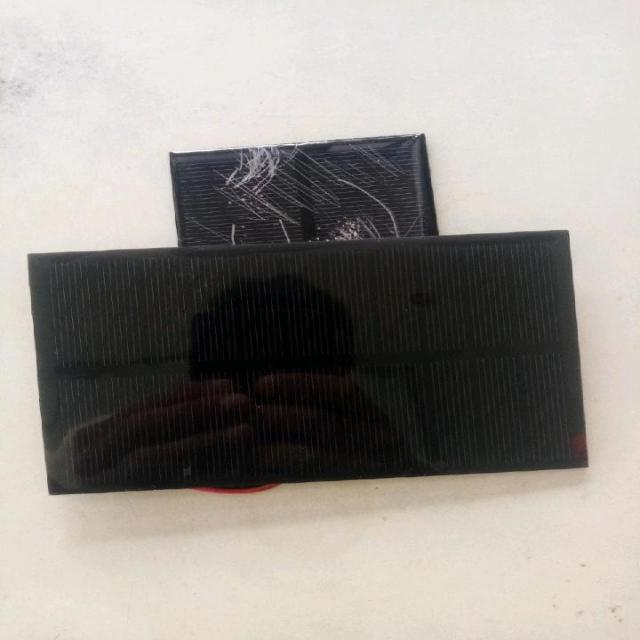faulty: (158, 148, 442, 244)
no faulty: (29, 250, 595, 483)
